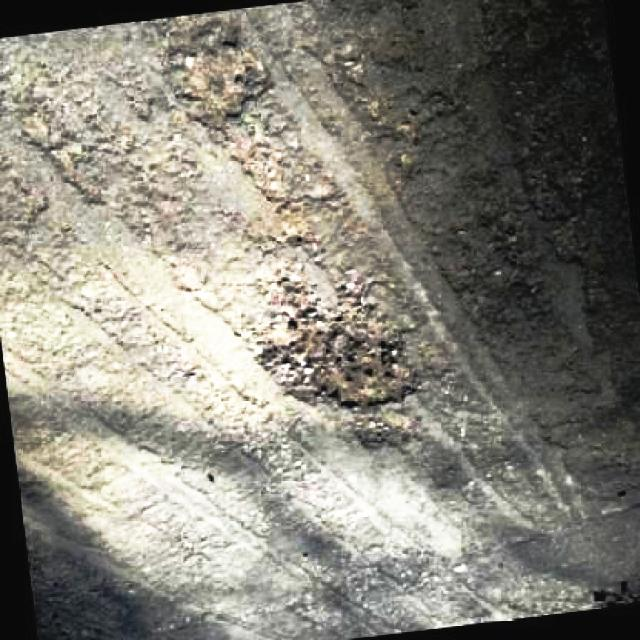pothole: (257, 314, 421, 404), (154, 21, 272, 130)
